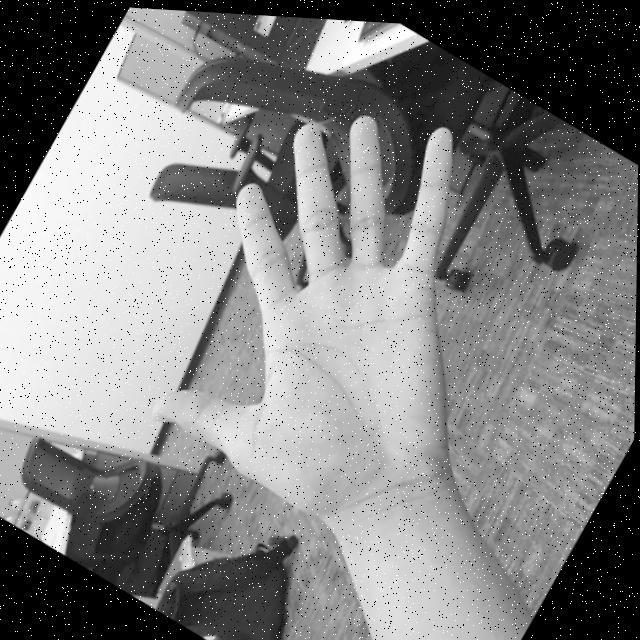no-gloves: (113, 34, 568, 554)
